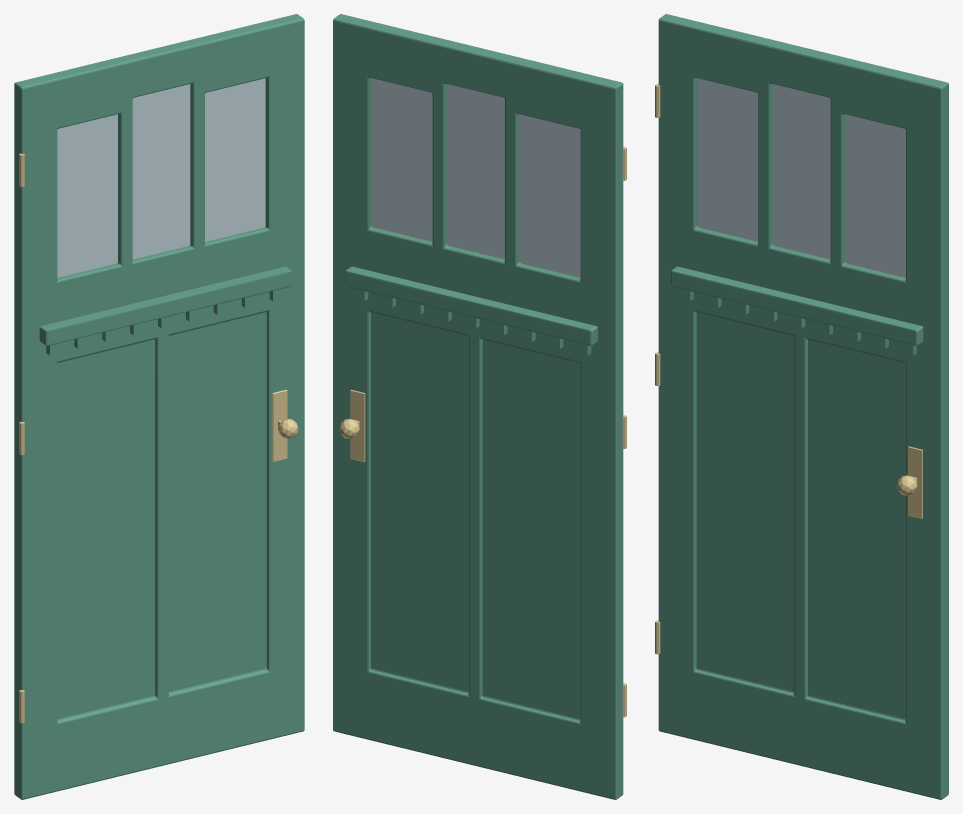
Rendered from door_front.glb.
3 renders of one model, left to right at view 1: azimuth 30°, elevation 25°; view 2: azimuth 150°, elevation 25°; view 3: azimuth 330°, elevation 25°, orthographic.
Visible parts, largest first — view 1: door_front_door, door_front_glass, door_front_brass; view 2: door_front_door, door_front_glass, door_front_brass; view 3: door_front_door, door_front_glass, door_front_brass.
Boxes of the visible parts, <box> form: door_front_door: <box>14,14,304,799</box>; door_front_glass: <box>57,78,265,277</box>; door_front_brass: <box>19,153,298,723</box>; door_front_door: <box>333,14,623,799</box>; door_front_glass: <box>372,78,580,277</box>; door_front_brass: <box>339,147,626,717</box>; door_front_door: <box>658,14,948,799</box>; door_front_glass: <box>697,78,905,277</box>; door_front_brass: <box>655,84,922,654</box>.
Bounding box in the file's own units: 0.948 × 2.26 × 0.205.
